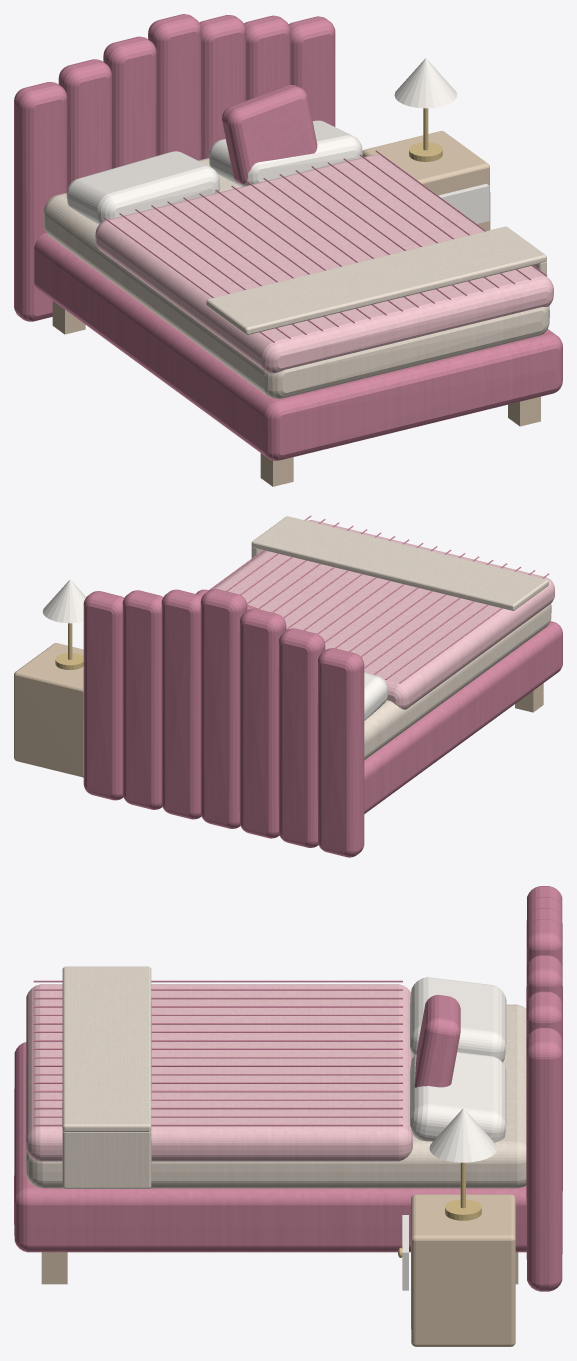
File: Bed_01.glb
3 renders of one model, top to bottom at view 1: azimuth 30°, elevation 25°; view 2: azimuth 150°, elevation 25°; view 3: azimuth 270°, elevation 25°, orthographic. The views are drawn at different scales.
Parts seen in each view (by area): view 1: duvet_14, upholstered_bed_base_5, mattress_13, folded_throw_36, scalloped_headboard_6, sleeping_pillow_33, scalloped_headboard_9, accent_cushion_35, scalloped_headboard_8, scalloped_headboard_7, scalloped_headboard_10, bedside_cabinet_38 (+8 smaller); view 2: duvet_14, folded_throw_36, upholstered_bed_base_5, scalloped_headboard_6, scalloped_headboard_9, scalloped_headboard_8, scalloped_headboard_10, scalloped_headboard_7, scalloped_headboard_11, scalloped_headboard_12, bedside_cabinet_38, mattress_13 (+3 smaller); view 3: duvet_14, upholstered_bed_base_5, mattress_13, bedside_cabinet_38, folded_throw_36, scalloped_headboard_12, sleeping_pillow_34, throw_drape_37, sleeping_pillow_33, accent_cushion_35, lampshade_43, scalloped_headboard_9 (+9 smaller).
Part boxes in pixels (x1,y1,x2,y2): duvet_14: (95, 155, 553, 373); upholstered_bed_base_5: (34, 233, 562, 460); mattress_13: (44, 158, 549, 398); folded_throw_36: (206, 226, 546, 334); scalloped_headboard_6: (14, 82, 67, 321); sleeping_pillow_33: (66, 151, 220, 224); scalloped_headboard_9: (148, 14, 201, 160); accent_cushion_35: (222, 85, 317, 184); scalloped_headboard_8: (103, 36, 156, 168); scalloped_headboard_7: (58, 59, 111, 188); scalloped_headboard_10: (199, 15, 245, 159); bedside_cabinet_38: (362, 131, 490, 230); duvet_14: (212, 520, 554, 709); folded_throw_36: (251, 516, 548, 610); upholstered_bed_base_5: (364, 621, 562, 813); scalloped_headboard_6: (317, 648, 364, 857); scalloped_headboard_9: (200, 589, 247, 828); scalloped_headboard_8: (239, 608, 286, 838); scalloped_headboard_10: (161, 589, 202, 819); scalloped_headboard_7: (278, 628, 325, 847); scalloped_headboard_11: (122, 590, 163, 809); scalloped_headboard_12: (83, 591, 124, 800); bedside_cabinet_38: (14, 643, 83, 777); mattress_13: (364, 603, 551, 759); duvet_14: (25, 984, 413, 1161); upholstered_bed_base_5: (14, 1042, 526, 1252); mattress_13: (25, 1004, 526, 1188); bedside_cabinet_38: (411, 1194, 515, 1346); folded_throw_36: (62, 966, 151, 1131); scalloped_headboard_12: (526, 1028, 562, 1291); sleeping_pillow_34: (410, 1052, 506, 1142); throw_drape_37: (62, 1131, 151, 1188); sleeping_pillow_33: (410, 977, 506, 1062); accent_cushion_35: (414, 994, 460, 1087); lampshade_43: (429, 1108, 497, 1162); scalloped_headboard_9: (526, 919, 562, 1064).
Bounding box in the file's own units: 1.97 × 1.21 × 2.1.
6 materials, 3 textured.
